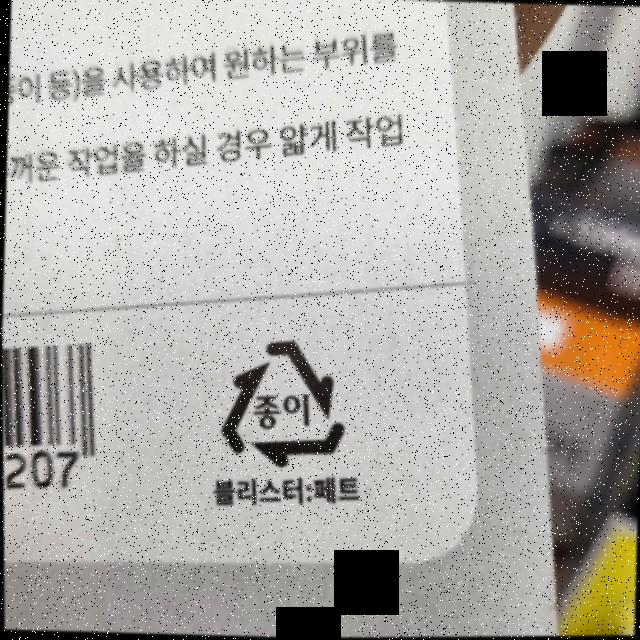Paper: (213, 333, 351, 472)
